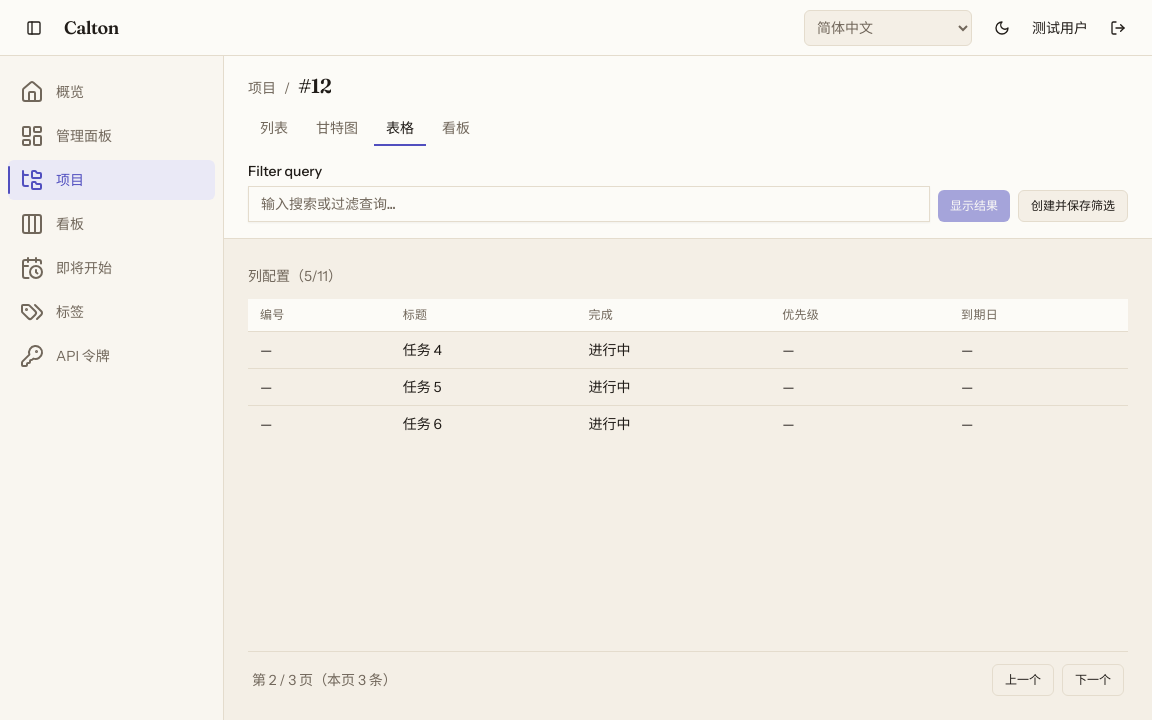
★ Table 视图：sort_by / order_by 按下标成对 › ★ 改排序时回到第 1 页
Click the button "标题". click: (415, 315)
box: [403,307,427,323]
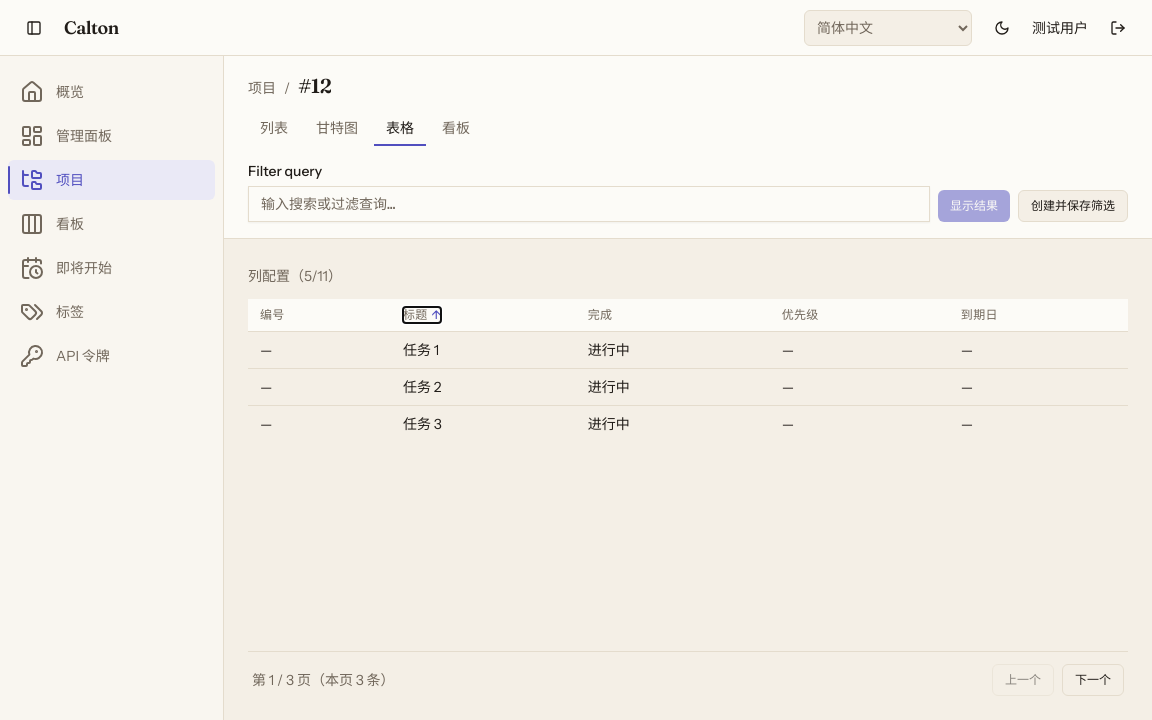
Expected: the text "↑" is shown, [432,307,441,323]
